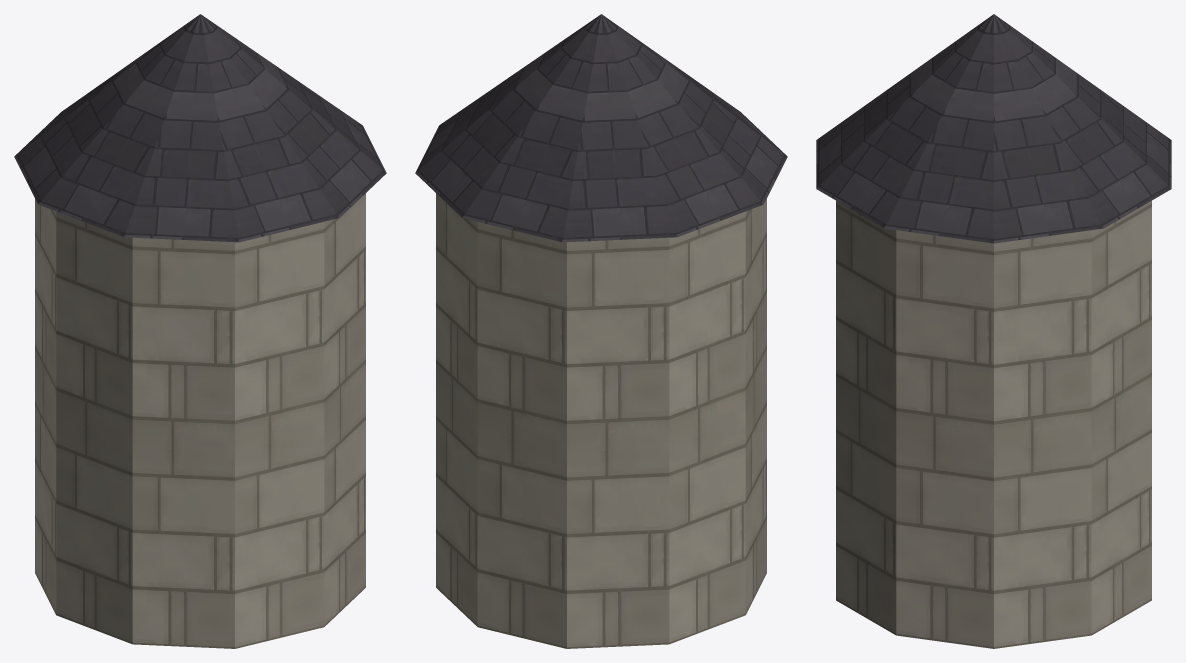
File: tower.wallet.glb
3 views of the same model, side by side, from view 1: azimuth 30°, elevation 25°; view 2: azimuth 150°, elevation 25°; view 3: azimuth 270°, elevation 25° (orthographic).
Visible parts, largest first — view 1: castle.tower.wallet; view 2: castle.tower.wallet; view 3: castle.tower.wallet.
Boxes of the visible parts, x1=… form: castle.tower.wallet: x1=14, y1=14, x2=386, y2=648; castle.tower.wallet: x1=415, y1=14, x2=787, y2=648; castle.tower.wallet: x1=816, y1=14, x2=1171, y2=648.
Bounding box in the file's own units: 1.8 × 3 × 1.71.
2 materials, 2 textured.
